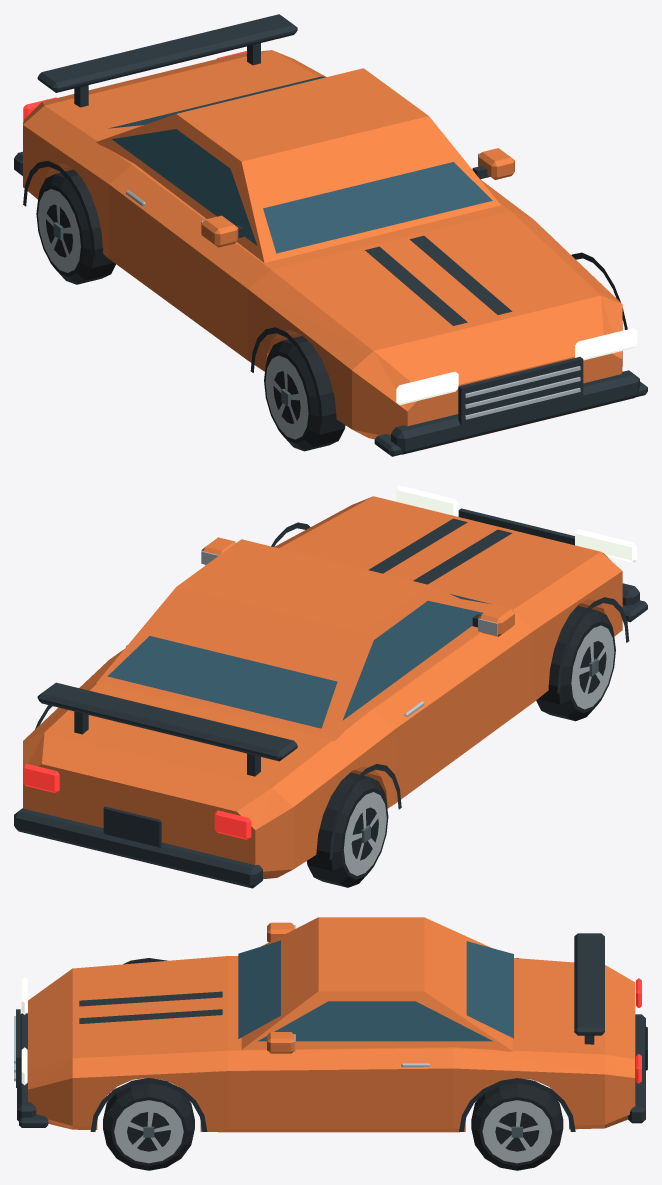
File: sports-car.glb
The picture shows the model from 3 angles, top to bottom: view 1: azimuth 30°, elevation 25°; view 2: azimuth 150°, elevation 25°; view 3: azimuth 270°, elevation 25°; orthographic projection. The views are drawn at different scales.
Visible parts, largest first — view 1: Body_Body_paint, Body_Dark_trim, Body_Blue_tinted_glazing, Wheel_FL_Tire_rubber, Wheel_RL_Tire_rubber, Body_Warm_headlamps, Wheel_FL_Brushed_alloy, Wheel_RL_Brushed_alloy, Body_Brushed_alloy; view 2: Body_Body_paint, Body_Dark_trim, Body_Blue_tinted_glazing, Wheel_RL_Tire_rubber, Wheel_FL_Tire_rubber, Body_Warm_headlamps, Wheel_RL_Brushed_alloy, Wheel_FL_Brushed_alloy, Body_Red_lens; view 3: Body_Body_paint, Body_Blue_tinted_glazing, Body_Dark_trim, Wheel_RR_Tire_rubber, Wheel_FR_Tire_rubber, Wheel_FR_Brushed_alloy, Wheel_RR_Brushed_alloy, Body_Warm_headlamps.
Boxes of the visible parts, bbox=[...] form: Body_Body_paint: bbox=[23, 50, 622, 450]; Body_Dark_trim: bbox=[14, 14, 647, 456]; Body_Blue_tinted_glazing: bbox=[108, 76, 492, 253]; Wheel_FL_Tire_rubber: bbox=[264, 336, 345, 451]; Wheel_RL_Tire_rubber: bbox=[36, 169, 115, 284]; Body_Warm_headlamps: bbox=[396, 328, 637, 405]; Wheel_FL_Brushed_alloy: bbox=[265, 355, 308, 439]; Wheel_RL_Brushed_alloy: bbox=[38, 189, 80, 272]; Body_Brushed_alloy: bbox=[126, 153, 580, 419]; Body_Body_paint: bbox=[23, 496, 622, 879]; Body_Dark_trim: bbox=[14, 508, 647, 888]; Body_Blue_tinted_glazing: bbox=[107, 594, 491, 728]; Wheel_RL_Tire_rubber: bbox=[306, 772, 388, 887]; Wheel_FL_Tire_rubber: bbox=[536, 606, 615, 721]; Body_Warm_headlamps: bbox=[396, 485, 637, 562]; Wheel_RL_Brushed_alloy: bbox=[343, 792, 386, 875]; Wheel_FL_Brushed_alloy: bbox=[571, 625, 614, 709]; Body_Red_lens: bbox=[23, 763, 251, 839]; Body_Body_paint: bbox=[28, 917, 635, 1132]; Body_Blue_tinted_glazing: bbox=[238, 940, 513, 1041]; Body_Dark_trim: bbox=[16, 933, 647, 1131]; Wheel_RR_Tire_rubber: bbox=[471, 1078, 563, 1170]; Wheel_FR_Tire_rubber: bbox=[103, 1077, 194, 1170]; Wheel_FR_Brushed_alloy: bbox=[114, 1100, 183, 1163]; Wheel_RR_Brushed_alloy: bbox=[482, 1100, 551, 1163]; Body_Warm_headlamps: bbox=[21, 976, 27, 1085].
Bounding box in the file's own units: 2.09 × 1.26 × 4.56.
